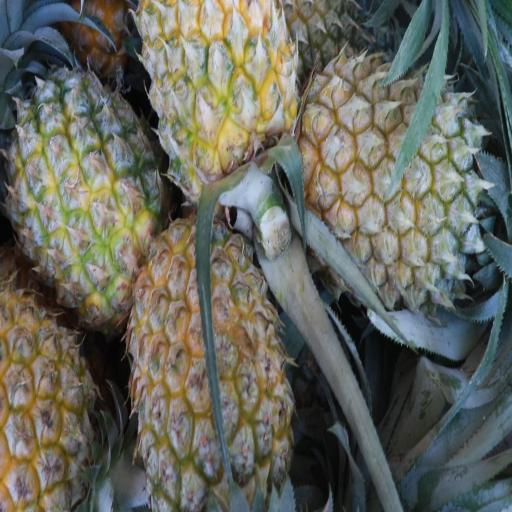------------------------------: (130, 223, 286, 512)
Pineapple - v8 v1: (7, 76, 153, 324), (143, 0, 299, 188), (0, 292, 104, 512)
